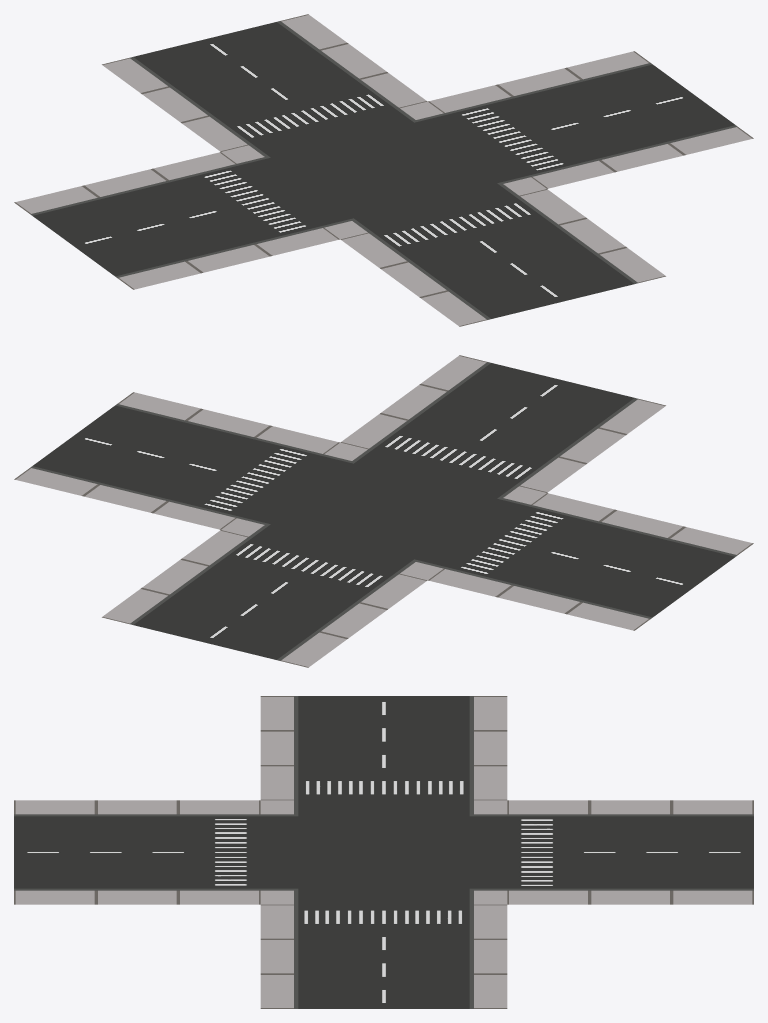
Rendered from road cross1.FBX.
3 renders of one model, top to bottom at view 1: azimuth 30°, elevation 25°; view 2: azimuth 150°, elevation 25°; view 3: azimuth 270°, elevation 25°, orthographic. The views are drawn at different scales.
Parts seen in each view (by area): view 1: road cross1; view 2: road cross1; view 3: road cross1.
Boxes of the visible parts, bbox=[...] form: road cross1: bbox=[14, 14, 753, 326]; road cross1: bbox=[14, 355, 753, 667]; road cross1: bbox=[14, 696, 753, 1008].
Bounding box in the file's own units: 60 × 8.03e-06 × 60.
